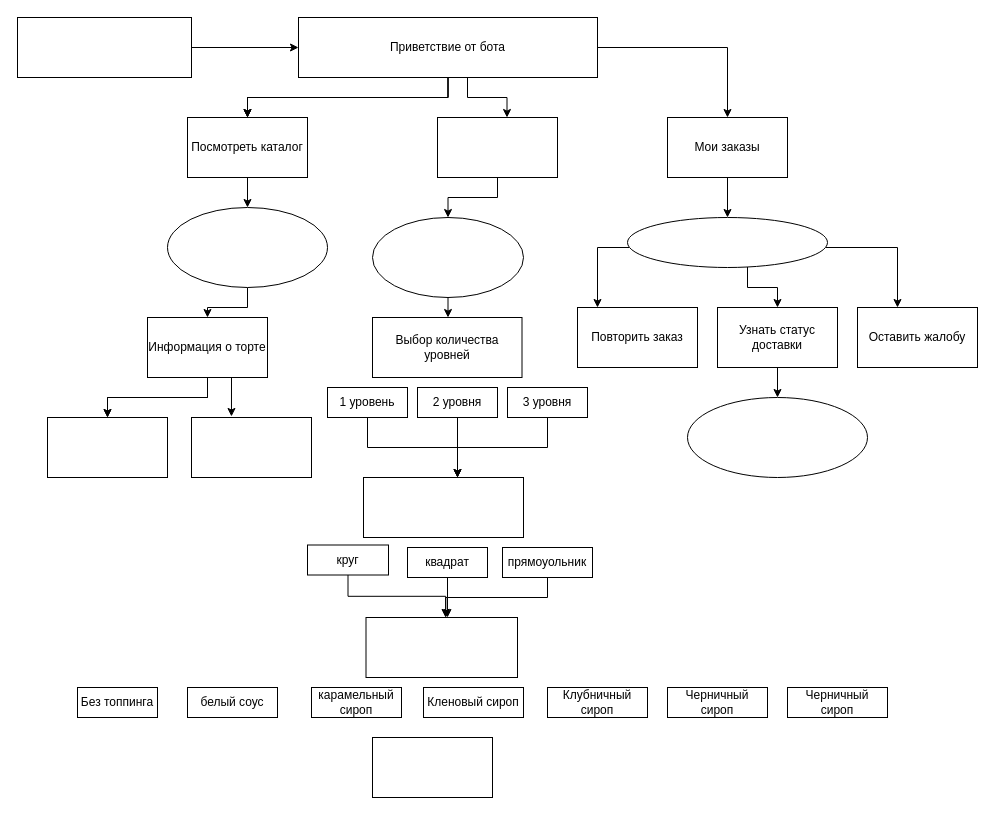
The diagram is 995 pixels wide and 815 high, and some of its shapes have lost their labels. The centre of each missing label's shape, as x and y in pixels:
"Выбор топпинга" goes at (441,647).
"Выбор формы" goes at (443,507).
"Выбор ягод" goes at (432,767).
"Заказать этот торт" goes at (107,447).
"История заказов" goes at (727,242).
"Карточки тортов с ценами" goes at (247,247).
"Конструктор торта" goes at (448,257).
"Пользователь переходит в бот" goes at (104,47).
"Примерные сроки доставки" goes at (777,437).
"Собрать похожий" goes at (251,447).
"Собрать свой торт" goes at (497,147).
